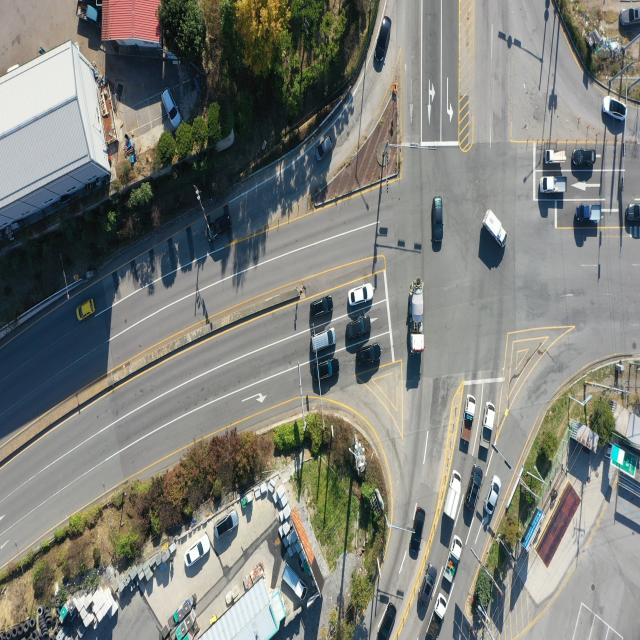car: (375, 12, 392, 66), (409, 508, 426, 560), (184, 536, 209, 568), (161, 92, 180, 132), (421, 563, 439, 605), (602, 96, 629, 124), (465, 466, 482, 510), (484, 476, 502, 516), (309, 329, 336, 355), (312, 358, 340, 382), (346, 319, 371, 344), (207, 214, 231, 240), (348, 283, 373, 307), (432, 196, 444, 246), (215, 511, 237, 538), (356, 343, 381, 366), (379, 605, 395, 640), (310, 297, 334, 320), (318, 134, 336, 163), (571, 148, 595, 167), (76, 300, 95, 323), (620, 7, 639, 25), (625, 203, 640, 223)
medium_truck: (410, 281, 426, 356)
small_truck: (442, 469, 462, 524), (281, 562, 308, 602), (426, 596, 449, 638), (444, 536, 464, 584), (485, 208, 508, 247), (482, 402, 497, 454), (462, 396, 476, 442), (76, 0, 99, 27), (574, 204, 601, 224), (540, 176, 568, 194), (545, 148, 566, 164)
